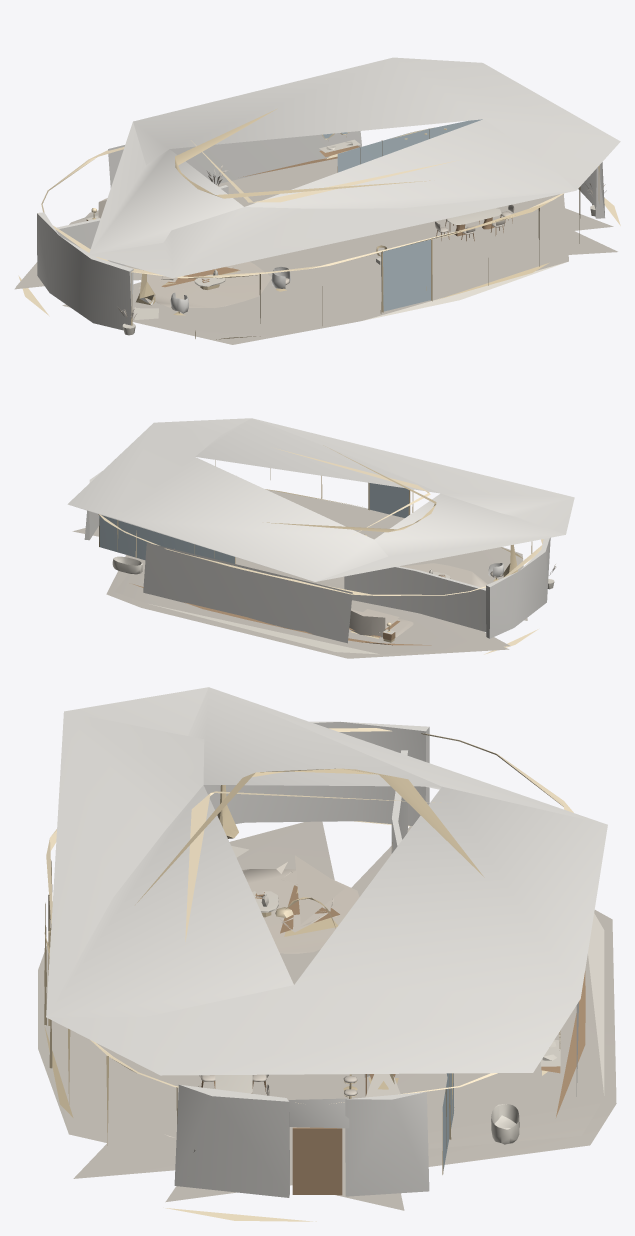
File: Nautilus_LOD1.dae
The picture shows the model from 3 angles, top to bottom: view 1: azimuth 30°, elevation 25°; view 2: azimuth 150°, elevation 25°; view 3: azimuth 270°, elevation 25°; orthographic projection. The views are drawn at different scales.
Parts seen in each view (by area): view 1: Nautilus_Roof_LOD1, Nautilus_Floor_LOD1, Nautilus_Wall_W_LOD1, Nautilus_Wall_N_LOD1, Nautilus_Door_S_LOD1, Nautilus_Rug_LOD1, Nautilus_Bath_Screen_LOD1, Nautilus_Glass_S_LOD1, Nautilus_Partition_LOD1, Nautilus_Wall_E_LOD1, Nautilus_Dining_Table_LOD1, Nautilus_Fireplace_LOD1; view 2: Nautilus_Roof_LOD1, Nautilus_Floor_LOD1, Nautilus_Wall_N_LOD1, Nautilus_Partition_LOD1, Nautilus_Wall_W_LOD1, Nautilus_Bath_Screen_LOD1, Nautilus_Door_S_LOD1, Nautilus_Bed_LOD1, Nautilus_Rug_LOD1, Nautilus_Bathtub_LOD1, Nautilus_Wall_E_LOD1; view 3: Nautilus_Roof_LOD1, Nautilus_Floor_LOD1, Nautilus_Wall_E_LOD1, Nautilus_Wall_W_LOD1, Nautilus_Door_E_LOD1, Nautilus_Rug_LOD1, Nautilus_Sofa_LOD1, Nautilus_Glass_S_LOD1, Nautilus_Wall_N_LOD1, Nautilus_Bathtub_LOD1, Nautilus_Partition_LOD1, Nautilus_Bath_Screen_LOD1 (+1 smaller).
Part boxes in pixels (x1,y1,x2,y2): Nautilus_Roof_LOD1: (41, 57, 620, 278); Nautilus_Floor_LOD1: (14, 157, 620, 344); Nautilus_Wall_W_LOD1: (37, 212, 133, 330); Nautilus_Wall_N_LOD1: (108, 131, 361, 187); Nautilus_Door_S_LOD1: (381, 239, 432, 312); Nautilus_Rug_LOD1: (138, 261, 271, 308); Nautilus_Bath_Screen_LOD1: (337, 119, 482, 172); Nautilus_Glass_S_LOD1: (131, 165, 599, 339); Nautilus_Partition_LOD1: (56, 185, 228, 265); Nautilus_Wall_E_LOD1: (578, 162, 604, 218); Nautilus_Dining_Table_LOD1: (447, 208, 501, 236); Nautilus_Fireplace_LOD1: (134, 270, 158, 319); Nautilus_Roof_LOD1: (67, 418, 574, 595); Nautilus_Floor_LOD1: (72, 489, 538, 658); Nautilus_Wall_N_LOD1: (133, 543, 431, 645); Nautilus_Partition_LOD1: (344, 566, 486, 631); Nautilus_Wall_W_LOD1: (486, 537, 550, 638); Nautilus_Bath_Screen_LOD1: (99, 515, 235, 563); Nautilus_Door_S_LOD1: (368, 482, 410, 517); Nautilus_Bed_LOD1: (349, 609, 399, 638); Nautilus_Rug_LOD1: (401, 563, 487, 588); Nautilus_Bathtub_LOD1: (112, 556, 142, 574); Nautilus_Wall_E_LOD1: (84, 471, 101, 540); Nautilus_Roof_LOD1: (46, 687, 607, 1103); Nautilus_Floor_LOD1: (38, 821, 616, 1221); Nautilus_Wall_E_LOD1: (174, 1084, 429, 1197); Nautilus_Wall_W_LOD1: (203, 721, 429, 825); Nautilus_Door_E_LOD1: (292, 1127, 342, 1195); Nautilus_Rug_LOD1: (242, 869, 359, 953); Nautilus_Sofa_LOD1: (276, 855, 344, 936); Nautilus_Glass_S_LOD1: (44, 860, 177, 1145); Nautilus_Wall_N_LOD1: (556, 971, 585, 1117); Nautilus_Bathtub_LOD1: (491, 1104, 519, 1144); Nautilus_Partition_LOD1: (391, 750, 408, 853); Nautilus_Bath_Screen_LOD1: (442, 1073, 454, 1174).
Size of the model in its own units: 27.44 by 17.44 by 4.94.
